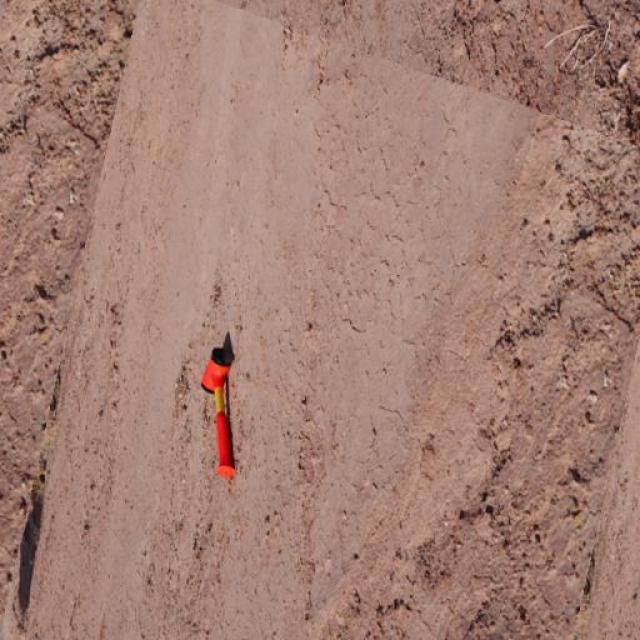mallet: (201, 330, 239, 480)
